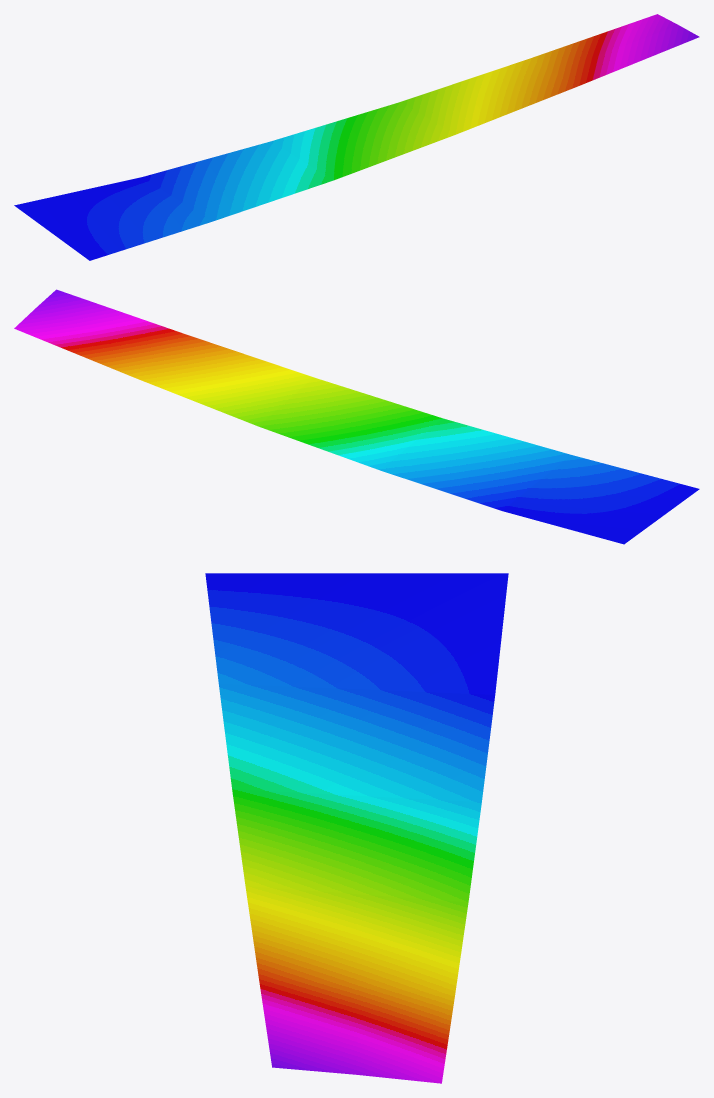
3 renders of one model, top to bottom at view 1: azimuth 30°, elevation 25°; view 2: azimuth 150°, elevation 25°; view 3: azimuth 270°, elevation 25°, orthographic. The views are drawn at different scales.
Visible parts, largest first — view 1: Elements; view 2: Elements; view 3: Elements.
Boxes of the visible parts, x1,y1,x2,y2 form: Elements: [14, 14, 699, 260]; Elements: [14, 289, 699, 544]; Elements: [205, 573, 508, 1083].
Size of the model in its own units: 1 by 0.0896 by 0.2095.
1 material, 1 textured.
